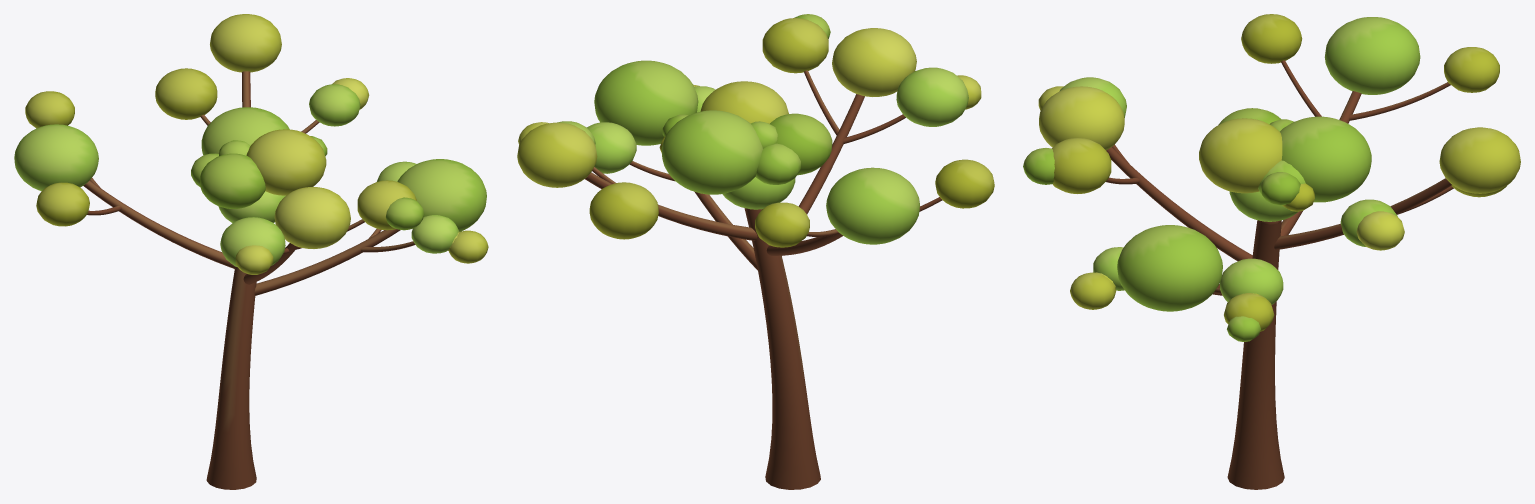
The model's file is acacia-tree-1.obj.
3 renders of one model, left to right at view 1: azimuth 30°, elevation 25°; view 2: azimuth 150°, elevation 25°; view 3: azimuth 270°, elevation 25°, orthographic. The views are drawn at different scales.
Parts seen in each view (by area): view 1: tree; view 2: tree; view 3: tree.
Boxes of the visible parts, left/top/right/bottom form: tree: left=14, top=14, right=488, bottom=489; tree: left=517, top=14, right=994, bottom=489; tree: left=1023, top=14, right=1520, bottom=489.
Size of the model in its own units: 606 by 500 by 552.
